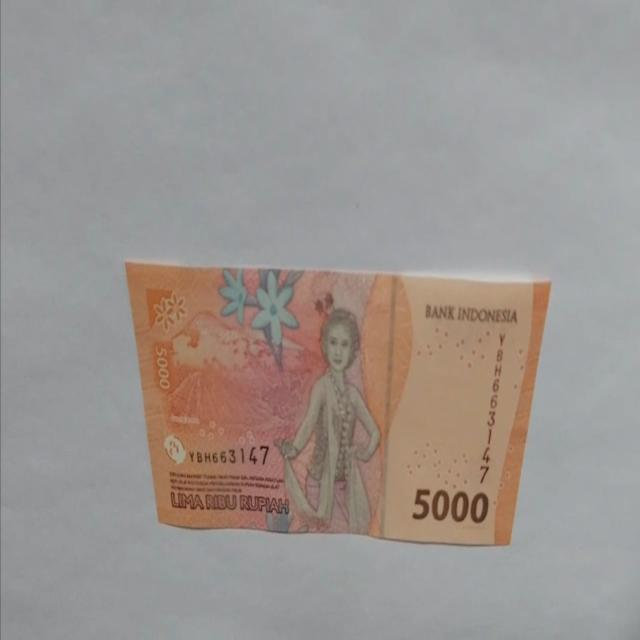lima ribu rupiah: (124, 259, 552, 545), (272, 306, 382, 534)
